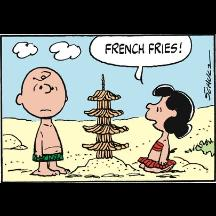charlie: (15, 66, 70, 176)
